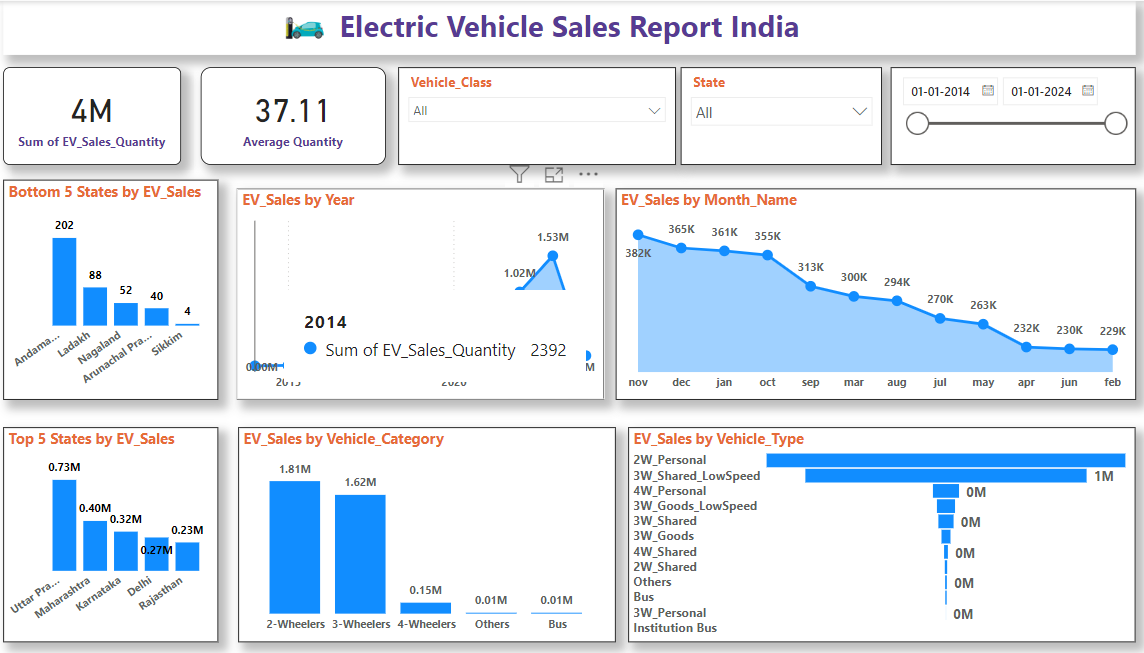

The page's visual inventory and layout, read from the dashboard file:
{"tool":"powerbi","page":{"name":"Page 1","canvas":[1280,720],"ordinal":0},"visuals":[{"type":"textbox","box":[23.3,0,1243.2,59],"z":0},{"type":"card","fields":{"Values":["Sum(EV_dataset.EV_Sales_Quantity)"]},"box":[23.3,72.7,194.9,107],"z":1000},{"type":"card","fields":{"Values":["EV_dataset.Average Qunatity"]},"box":[240.1,72.7,203.1,107],"z":2000},{"type":"areaChart","title":"EV_Sales by Year","fields":{"Category":["EV_dataset.Year"],"Y":["Sum(EV_dataset.EV_Sales_Quantity)"]},"box":[279.9,205.8,403.4,231.9],"z":3000},{"type":"slicer","fields":{"Values":["EV_dataset.Vehicle_Class"]},"box":[456.9,72.7,304.6,107],"z":4000},{"type":"slicer","fields":{"Values":["EV_dataset.State"]},"box":[767.1,72.7,220.9,107],"z":5000},{"type":"areaChart","title":"EV_Sales by Month_Name","fields":{"Category":["EV_dataset.Month_Name"],"Y":["Sum(EV_dataset.EV_Sales_Quantity)"]},"box":[695.7,205.8,570.8,231.9],"z":6000},{"type":"columnChart","title":"EV_Sales by Vehicle_Category","fields":{"Category":["EV_dataset.Vehicle_Category"],"Y":["Sum(EV_dataset.EV_Sales_Quantity)"]},"box":[281.3,467.9,414.4,236],"z":7000},{"type":"funnel","title":"EV_Sales by Vehicle_Type","fields":{"Category":["EV_dataset.Vehicle_Type"],"Y":["Sum(EV_dataset.EV_Sales_Quantity)"]},"box":[709.4,467.9,557.1,236],"z":8000},{"type":"columnChart","title":"Top 5 States by EV_Sales","fields":{"Category":["EV_dataset.State"],"Y":["Sum(EV_dataset.EV_Sales_Quantity)"]},"box":[23.3,467.9,236,236],"z":9000},{"type":"columnChart","title":"Bottom 5 States by EV_Sales","fields":{"Category":["EV_dataset.State"],"Y":["Sum(EV_dataset.EV_Sales_Quantity)"]},"box":[23.3,196.2,236,241.5],"z":10000},{"type":"slicer","fields":{"Values":["EV_dataset.Date"]},"box":[997.6,72.7,269,107],"z":11000},{"type":"image","box":[299.1,0,109.8,59],"z":12000}]}

Visuals, with their boxes in screenshot pixels (x1, y1, x2, y2), scaled from the page's 1280x720 canvas onto the 1144x653 screenshot:
textbox: (21,0,1132,54)
card - Sum(EV_dataset.EV_Sales_Quantity): (21,66,195,163)
card - EV_dataset.Average Qunatity: (215,66,396,163)
"EV_Sales by Year" areaChart: (250,187,611,397)
slicer - EV_dataset.Vehicle_Class: (408,66,681,163)
slicer - EV_dataset.State: (686,66,883,163)
"EV_Sales by Month_Name" areaChart: (622,187,1132,397)
"EV_Sales by Vehicle_Category" columnChart: (251,424,622,638)
"EV_Sales by Vehicle_Type" funnel: (634,424,1132,638)
"Top 5 States by EV_Sales" columnChart: (21,424,232,638)
"Bottom 5 States by EV_Sales" columnChart: (21,178,232,397)
slicer - EV_dataset.Date: (892,66,1132,163)
image: (267,0,365,54)
